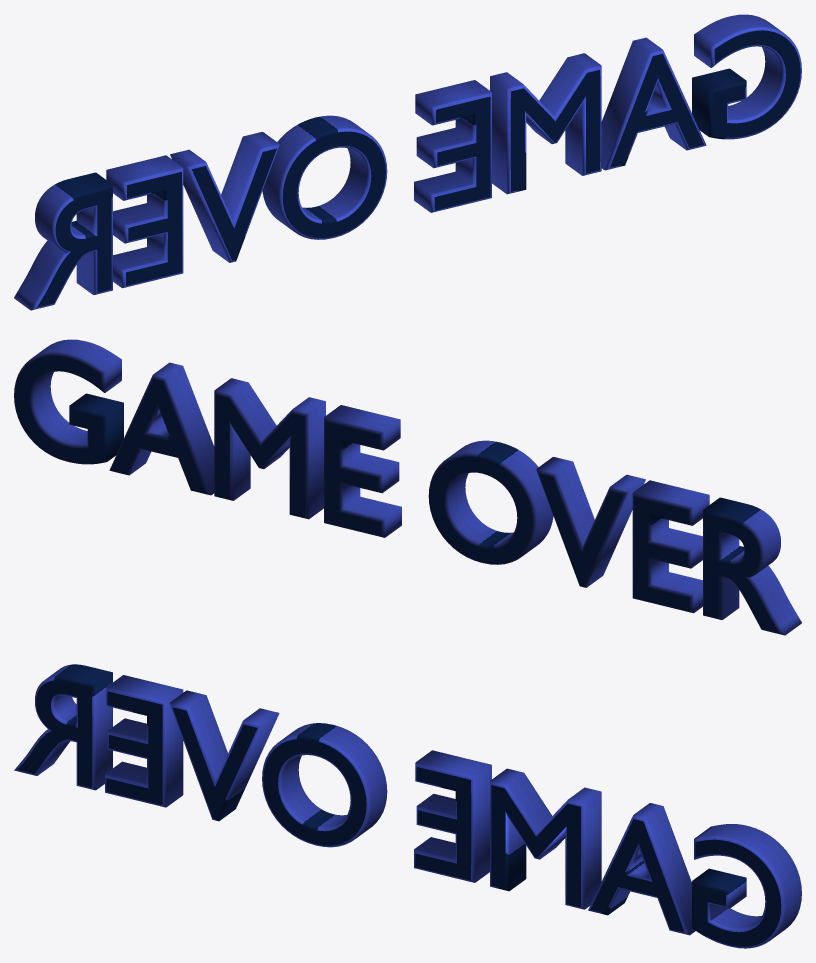
The model's file is over.obj.
3 views of the same model, one above another, from view 1: azimuth 30°, elevation 25°; view 2: azimuth 150°, elevation 25°; view 3: azimuth 330°, elevation 25° (orthographic).
Parts seen in each view (by area): view 1: GAMEOVER; view 2: GAMEOVER; view 3: GAMEOVER.
Boxes of the visible parts, x1=… form: GAMEOVER: x1=14, y1=14, x2=801, y2=310; GAMEOVER: x1=14, y1=339, x2=801, y2=635; GAMEOVER: x1=14, y1=664, x2=801, y2=948.
Bounding box in the file's own units: 5.51 × 0.7401 × 0.24.
